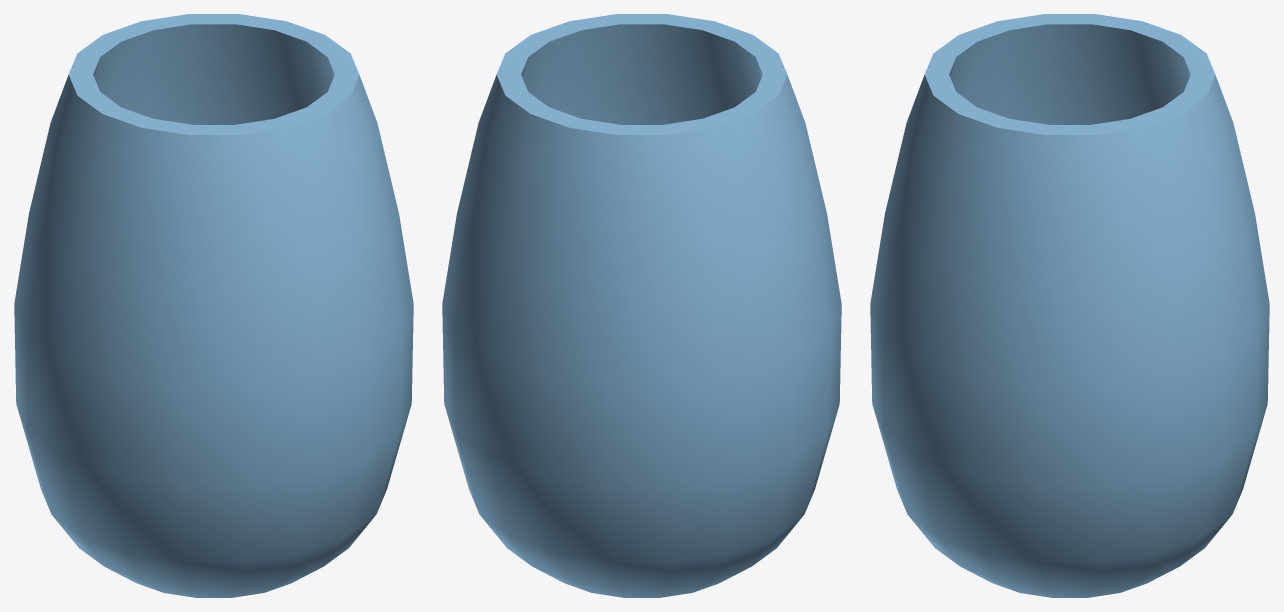
File: Glass_02.fbx
3 renders of one model, left to right at view 1: azimuth 30°, elevation 25°; view 2: azimuth 150°, elevation 25°; view 3: azimuth 270°, elevation 25°, orthographic.
Parts seen in each view (by area): view 1: Glass_02; view 2: Glass_02; view 3: Glass_02.
Part boxes in pixels (bbox=[...]): Glass_02: bbox=[14, 14, 413, 597]; Glass_02: bbox=[442, 14, 841, 597]; Glass_02: bbox=[870, 14, 1269, 597].
Size of the model in its own units: 23.1 by 31.2 by 23.46.
